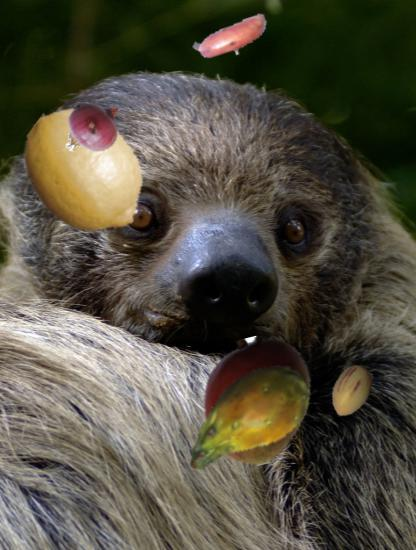Banana: (192, 0, 272, 80)
Cactus: (173, 347, 314, 488)
Lemon: (16, 104, 153, 241)
Mango: (195, 337, 323, 465)
Onion: (50, 92, 127, 169)
Pepino: (325, 364, 380, 419)
